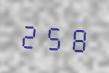eight: (65, 20, 87, 55)
five: (42, 19, 64, 53)
two: (18, 17, 40, 52)
